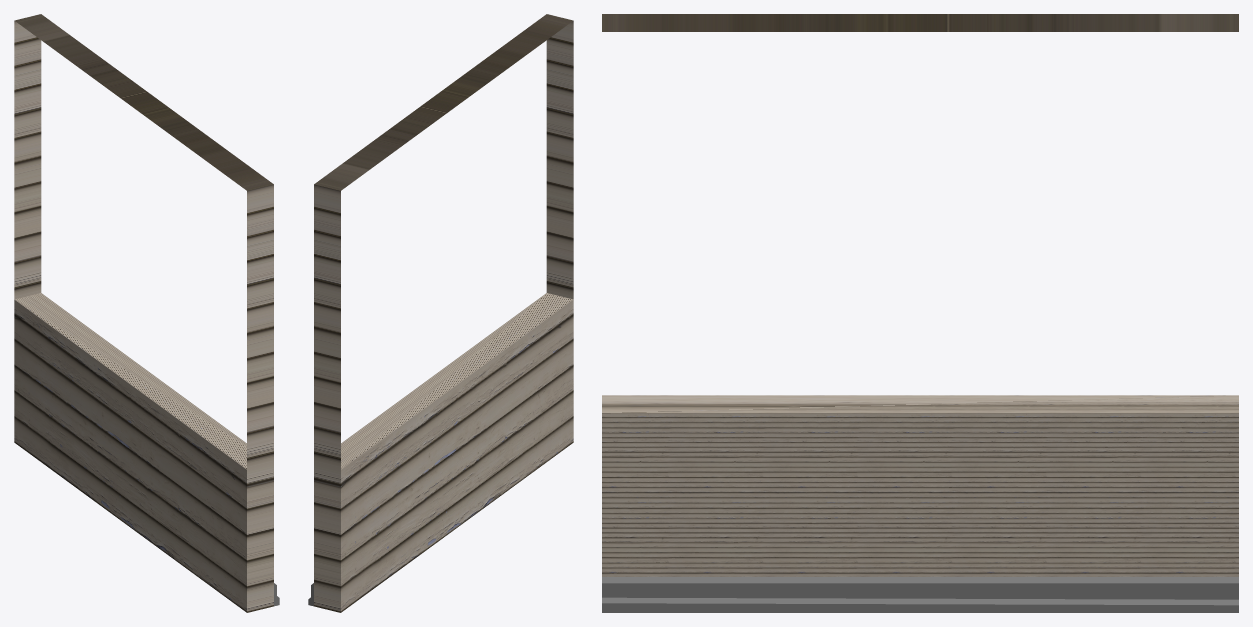
The model's file is WallWindowOBJ.obj.
3 views of the same model, side by side, from view 1: azimuth 30°, elevation 25°; view 2: azimuth 150°, elevation 25°; view 3: azimuth 270°, elevation 25° (orthographic). The views are drawn at different scales.
Parts seen in each view (by area): view 1: pCube1; view 2: pCube1; view 3: pCube1.
Part boxes in pixels (<box>): pCube1: <box>14,14,279,612</box>; pCube1: <box>308,14,573,612</box>; pCube1: <box>602,14,1238,612</box>.
Size of the model in its own units: 24.21 by 300 by 300.
Materials: 2 (1 with a texture image).
